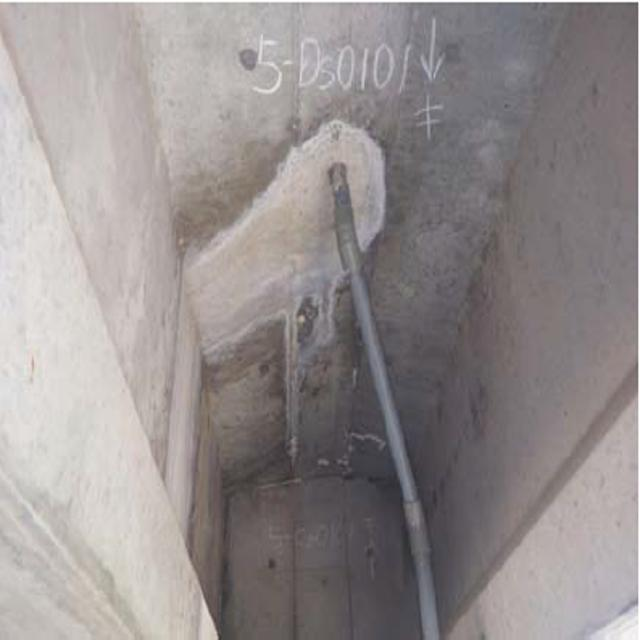leakage: (167, 110, 382, 576)
